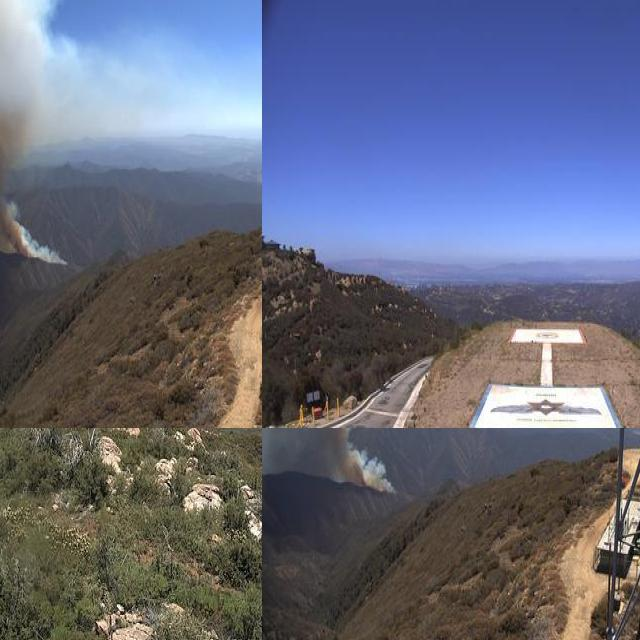smoke: (0, 0, 79, 266)
